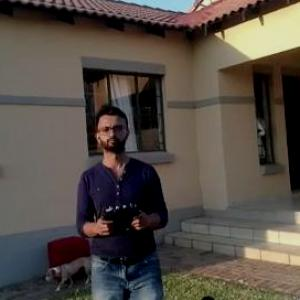follow: (71, 100, 173, 299)
null: (40, 252, 90, 294)
